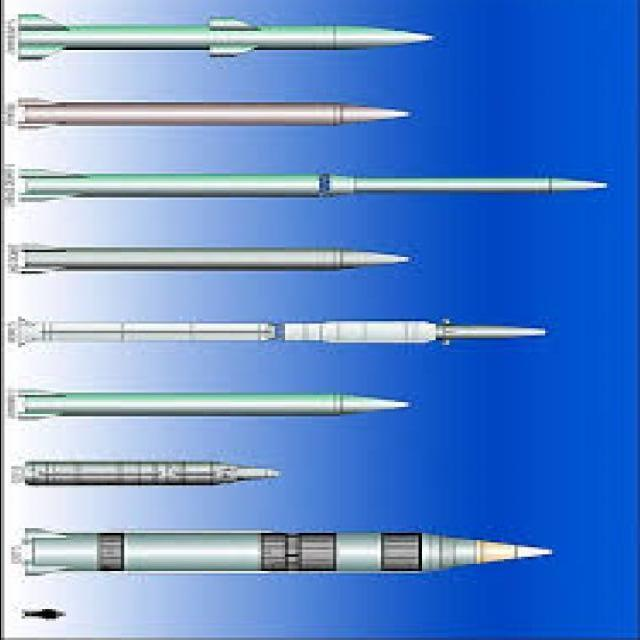Missile: (11, 522, 555, 582), (2, 314, 570, 358), (9, 167, 616, 205), (2, 15, 449, 64), (0, 239, 447, 283), (3, 90, 430, 136), (4, 387, 417, 420)
